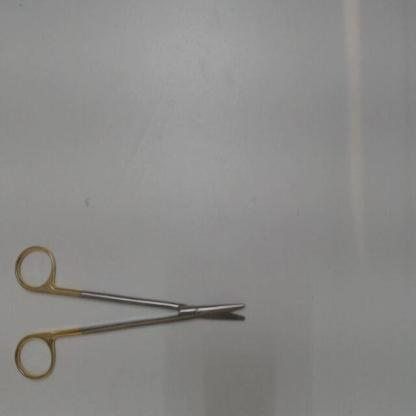7 Metzenbaum Scissors: (11, 239, 248, 388)
